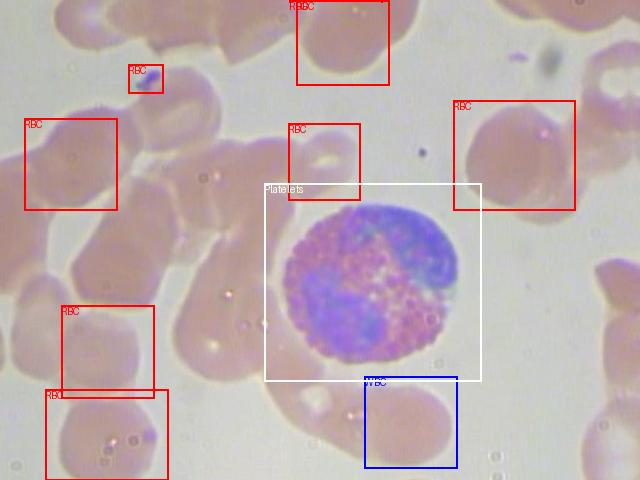Platelets: (264, 183, 481, 381)
RBC: (453, 100, 575, 210), (45, 389, 168, 480), (61, 305, 154, 398), (24, 118, 117, 210), (296, 0, 389, 85), (288, 123, 360, 200), (128, 64, 163, 93)
WBC: (364, 376, 457, 468)
